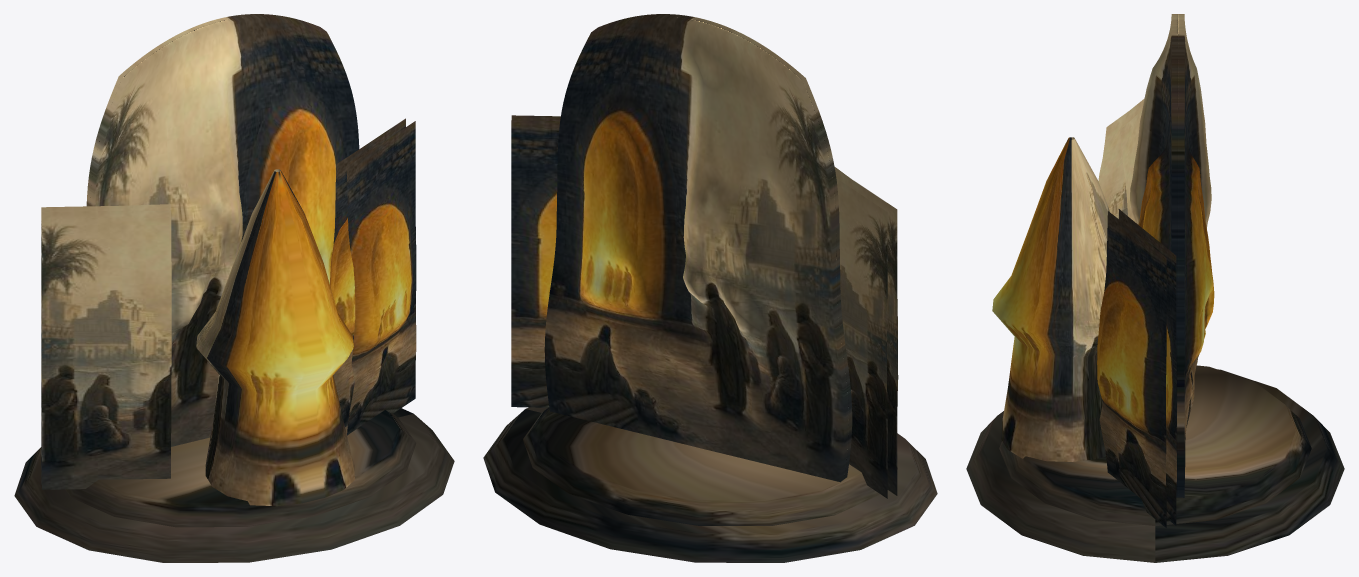
Rendered from greatly-beloved-14.glb.
3 renders of one model, left to right at view 1: azimuth 30°, elevation 25°; view 2: azimuth 150°, elevation 25°; view 3: azimuth 270°, elevation 25°, orthographic. The views are drawn at different scales.
Parts seen in each view (by area): view 1: PaintingSculptureMonument; view 2: PaintingSculptureMonument; view 3: PaintingSculptureMonument.
Part boxes in pixels (x1,y1,x2,y2): PaintingSculptureMonument: (14,14,454,562); PaintingSculptureMonument: (483,14,937,562); PaintingSculptureMonument: (966,14,1344,562).
Bounding box in the file's own units: 2.76 × 2.99 × 2.35.
Materials: 1 (1 with a texture image).
